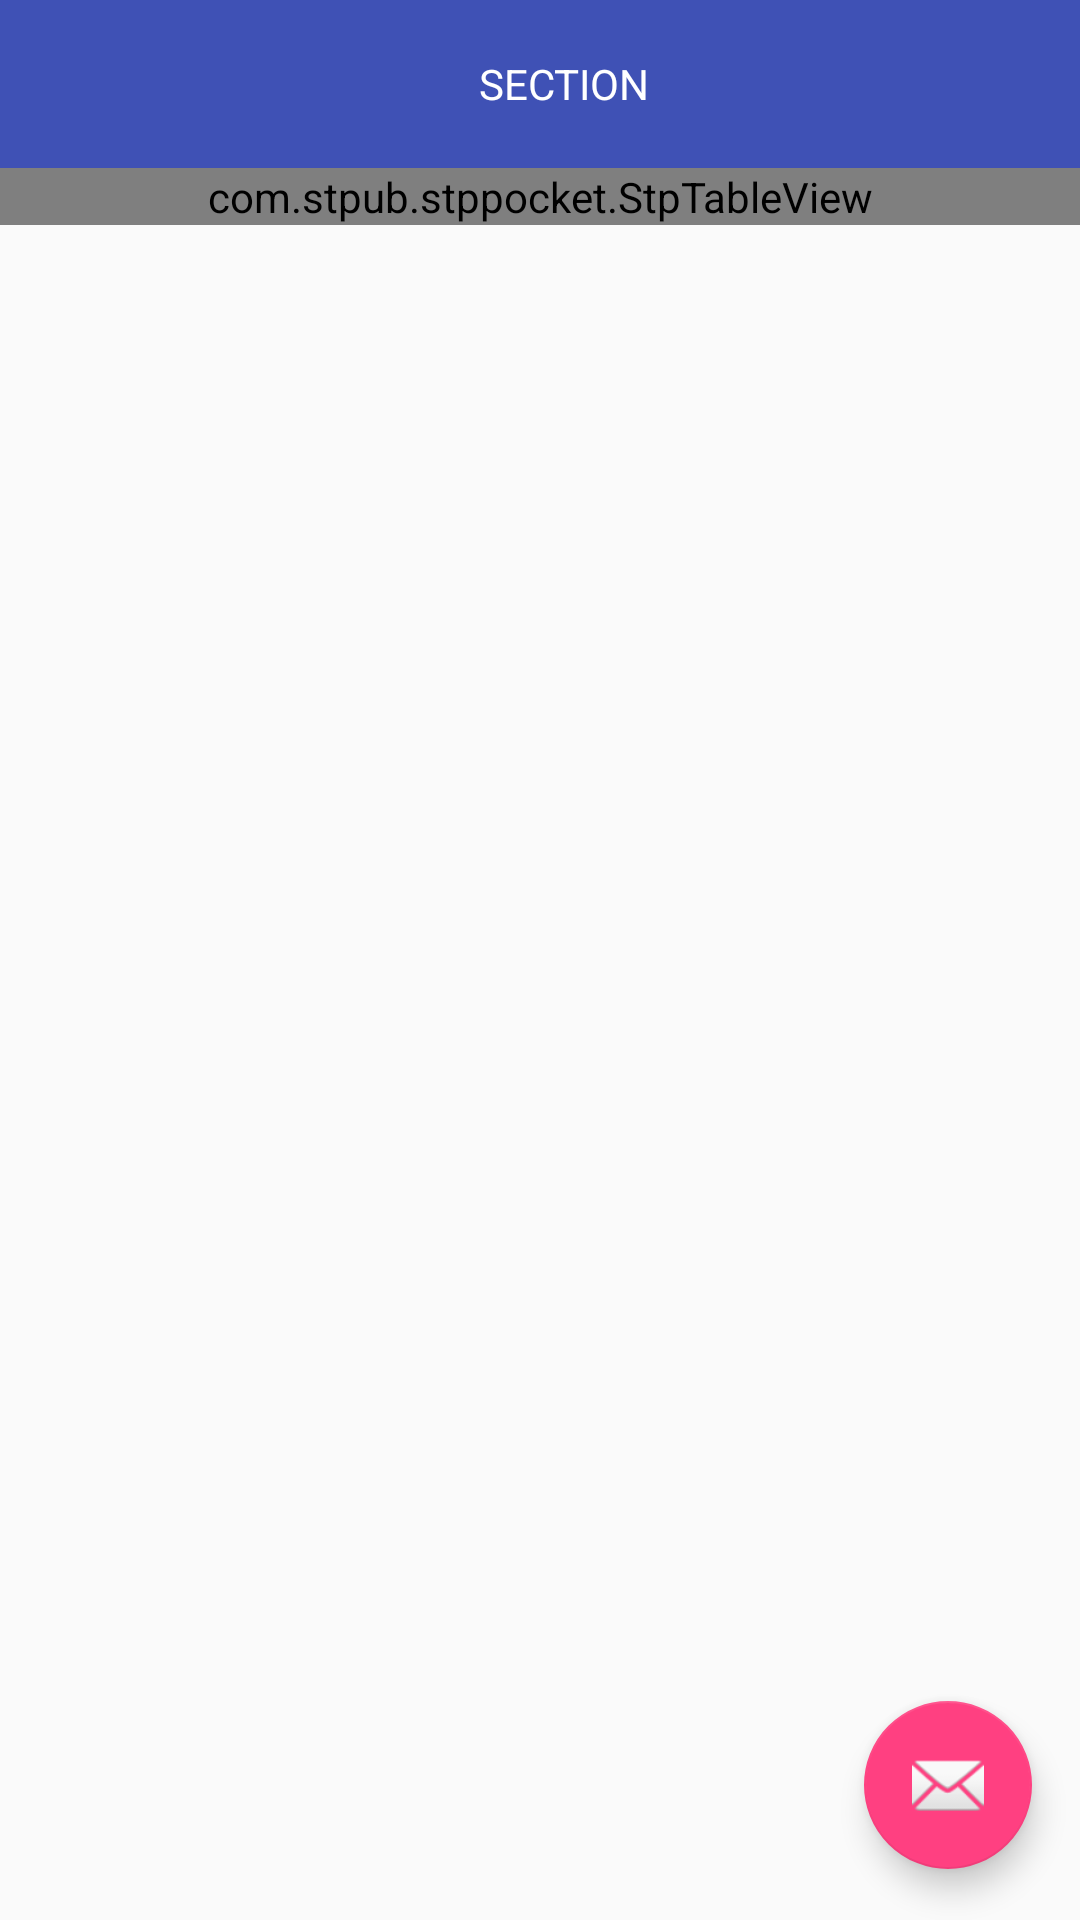

Screen size 1080 x 1920. Icon name, then its center in pixels as point (x, y):
email: point (948, 1785)
